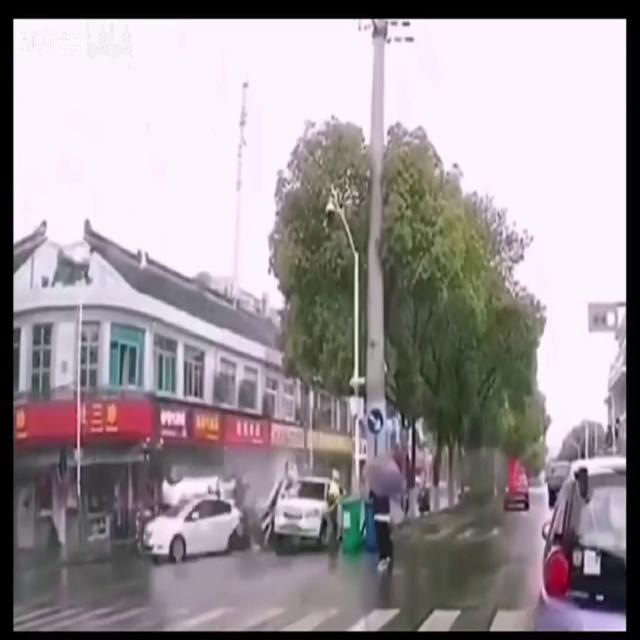accident: (248, 462, 348, 558)
non-accident: (505, 459, 625, 631), (502, 459, 588, 515)
